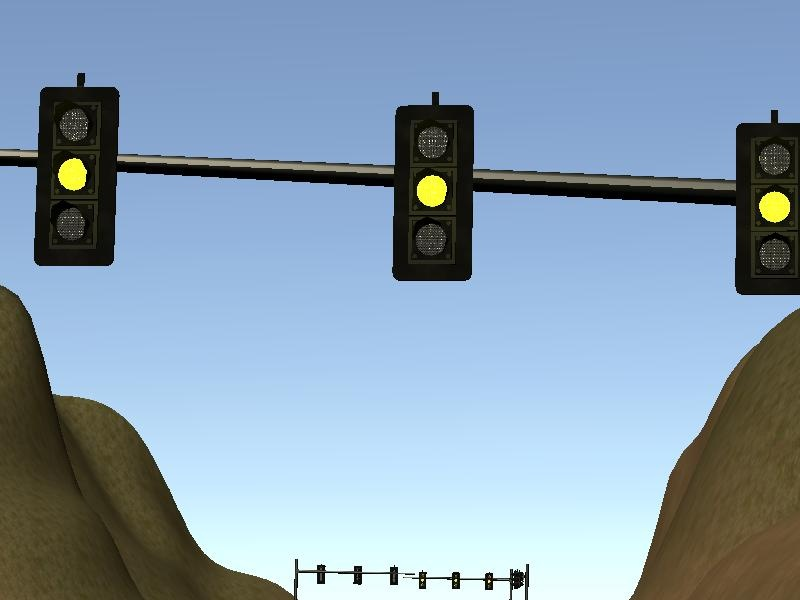YELLOW: (33, 88, 119, 265), (391, 104, 477, 281), (730, 121, 800, 295)
